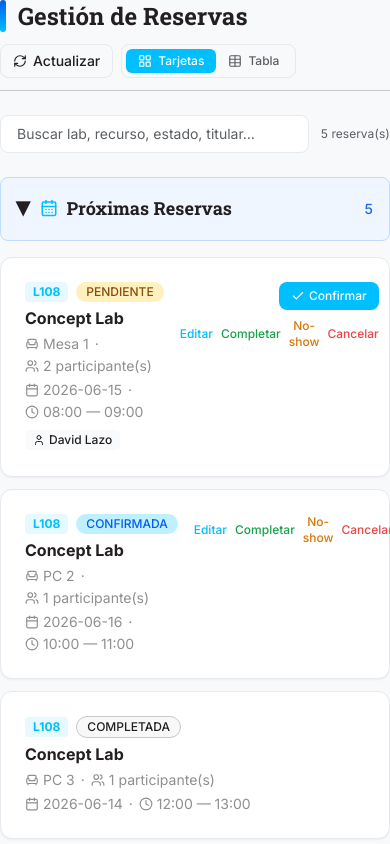
Test case: ReservasPage › admin: vista Tabla usa paginación de servidor (buscarMisReservas)
Expected: the heading "Gestión de Reservas" is shown, [18, 0, 248, 32]
# cambiar a Tabla y verificar que la tabla muestra el total del servidor (5 filas)
Click the tab "Tabla". click: {"x": 254, "y": 61}
box: [216, 49, 291, 73]
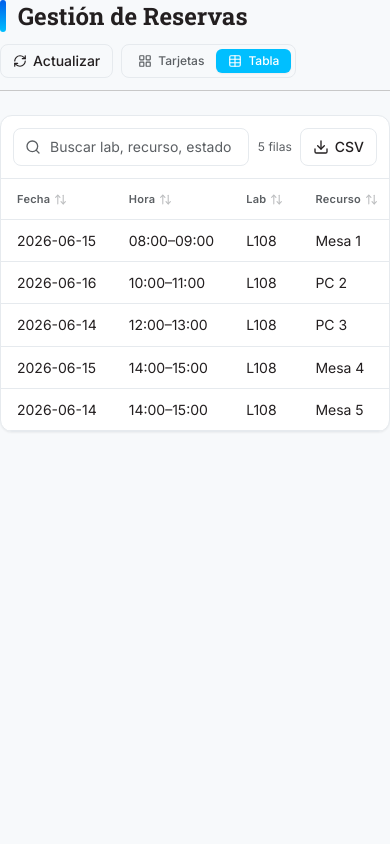
Now the text "5 filas" is shown, box [257, 139, 292, 155]
